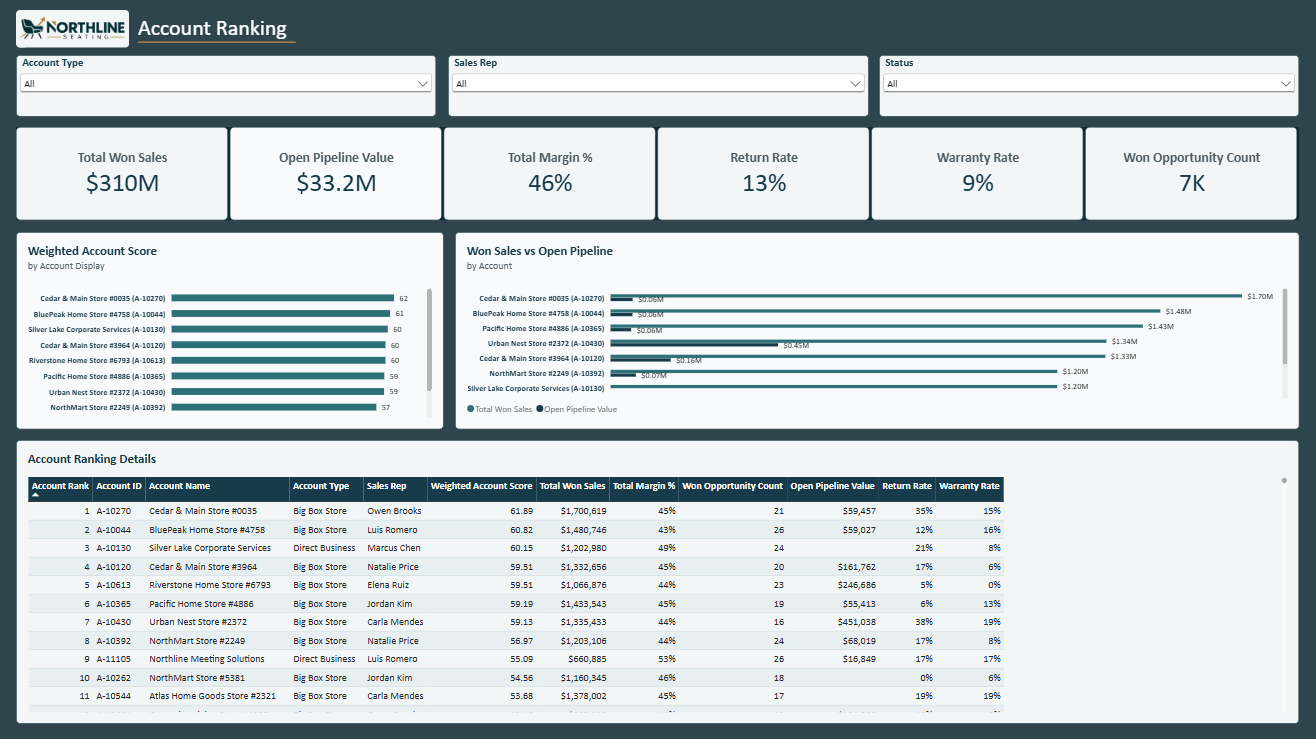

This screenshot's page, from the dashboard's own definition file:
{"tool":"powerbi","page":{"name":"Account Ranking","canvas":[1920,1080],"ordinal":5},"visuals":[{"type":"shape","box":[202.3,55,230,12],"z":0,"group":"g1"},{"type":"slicer","fields":{"Values":["Accounts.Account Type"]},"box":[24,80,613,90],"z":0},{"type":"textbox","box":[202.3,20,350,40],"z":1000,"group":"g1"},{"type":"slicer","fields":{"Values":["Accounts.Sales Rep"]},"box":[653,80,614,90],"z":1000},{"type":"image","box":[24,14,165,55],"z":2000,"group":"g1"},{"type":"slicer","fields":{"Values":["Accounts.Status"]},"box":[1283,80,613,90],"z":2000},{"type":"cardVisual","fields":{"Data":["Measures_.Total Won Sales","Measures_.Open Pipeline Value","Measures_.Total Margin %","Measures_.Return Rate","Measures_.Warranty Rate","Measures_.Won Opportunity Count"]},"box":[24,186,1872,136],"z":3000},{"type":"clusteredBarChart","fields":{"Category":["Accounts.Account Display"],"Y":["Measures_.Weighted Account Score"]},"box":[24,338,624,288],"z":4000},{"type":"clusteredBarChart","title":"Won Sales vs Open Pipeline","fields":{"Category":["Accounts.Account Display"],"Y":["Measures_.Total Won Sales","Measures_.Open Pipeline Value"]},"box":[664,338,1232,288],"z":5000},{"type":"tableEx","title":"Account Ranking Details","fields":{"Values":["Measures_.Account Rank","Accounts.Account ID","Accounts.Account Name","Accounts.Account Type","Accounts.Sales Rep","Measures_.Weighted Account Score","Measures_.Total Won Sales","Measures_.Total Margin %","Measures_.Won Opportunity Count","Measures_.Open Pipeline Value","Measures_.Return Rate","Measures_.Warranty Rate"]},"box":[24,642,1872,414.5],"z":6000},{"type":"group","id":"g1","title":"Group 1","box":[24,14,528.3,55],"z":7000}]}

Visuals, with their boxes in screenshot pixels (x1, y1, x2, y2), scaled from the page's 1920x1080 canvas onto the 1316x739 screenshot:
shape: x1=139, y1=38, x2=296, y2=46
slicer - Accounts.Account Type: x1=16, y1=55, x2=437, y2=116
textbox: x1=139, y1=14, x2=379, y2=41
slicer - Accounts.Sales Rep: x1=448, y1=55, x2=868, y2=116
image: x1=16, y1=10, x2=130, y2=47
slicer - Accounts.Status: x1=879, y1=55, x2=1300, y2=116
cardVisual - Measures_.Total Won Sales x Measures_.Open Pipeline Value: x1=16, y1=127, x2=1300, y2=220
clusteredBarChart - Accounts.Account Display x Measures_.Weighted Account Score: x1=16, y1=231, x2=444, y2=428
"Won Sales vs Open Pipeline" clusteredBarChart: x1=455, y1=231, x2=1300, y2=428
"Account Ranking Details" tableEx: x1=16, y1=439, x2=1300, y2=723
"Group 1" group: x1=16, y1=10, x2=379, y2=47
